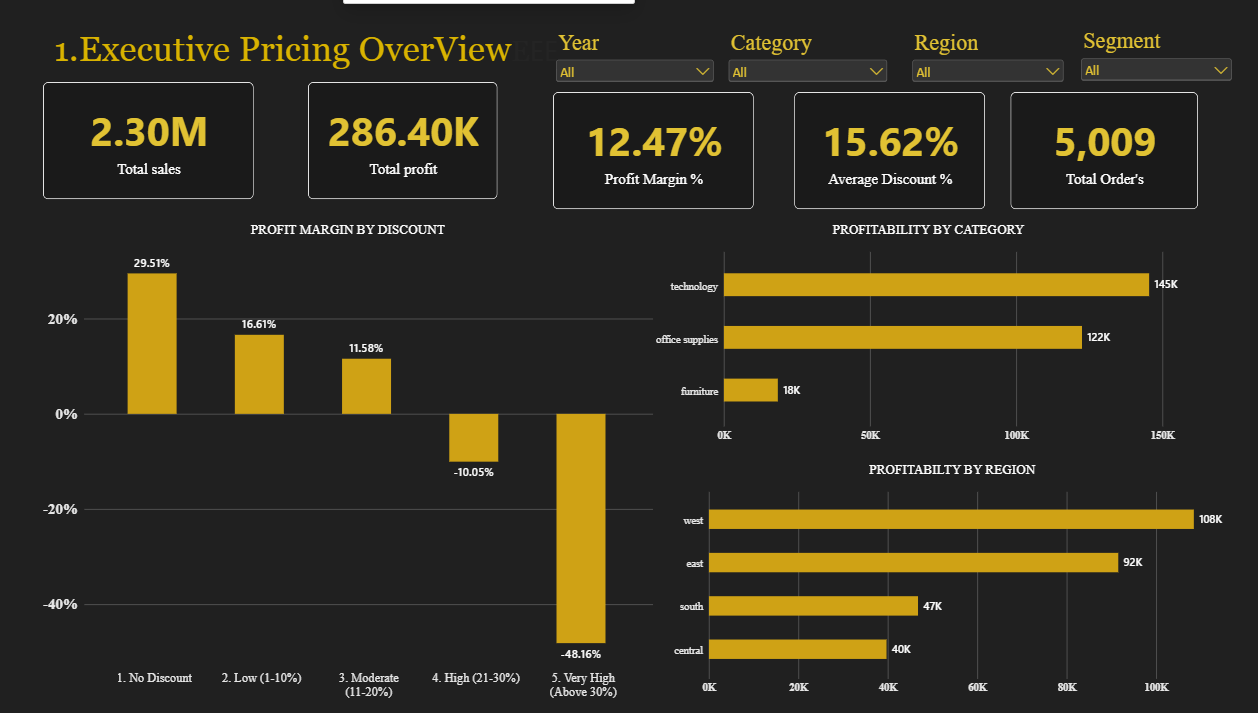

The dashboard page shown, as its layout file describes it:
{"tool":"powerbi","page":{"name":"Executive Overview","canvas":[1920,1080],"ordinal":0},"visuals":[{"type":"textbox","box":[0,47.2,960.4,81.1],"z":0},{"type":"cardVisual","fields":{"Data":["superstore_cleaned.Total sales"]},"box":[83,128.3,318.9,177.4],"z":1000},{"type":"cardVisual","fields":{"Data":["superstore_cleaned.Total profit"]},"box":[483,128.3,286.8,177.4],"z":2000},{"type":"cardVisual","fields":{"Data":["superstore_cleaned.Profit Margin %"]},"box":[852.8,143.4,303.8,177.4],"z":3000},{"type":"cardVisual","fields":{"Data":["superstore_cleaned.Average Discount %"]},"box":[1217,143.4,288.7,177.4],"z":4000},{"type":"cardVisual","fields":{"Data":["superstore_cleaned.Total orders dIsplay"]},"box":[1543.4,143.4,283,177.4],"z":5000},{"type":"clusteredColumnChart","title":"PROFIT MARGIN BY DISCOUNT","fields":{"Category":["superstore_cleaned.Discount Bucket"],"Y":["superstore_cleaned.Profit Margin %"]},"box":[83,339.6,920.8,722.6],"z":6000},{"type":"clusteredBarChart","title":"PROFITABILITY BY CATEGORY","fields":{"Category":["superstore_cleaned.Category"],"Y":["superstore_cleaned.Total profit"]},"box":[1003.8,339.6,832.1,334],"z":7000},{"type":"clusteredBarChart","title":"PROFITABILTY BY REGION","fields":{"Category":["superstore_cleaned.Region"],"Y":["superstore_cleaned.Total profit"]},"box":[1030.2,701.9,850.9,352.8],"z":8000},{"type":"slicer","fields":{"Values":["superstore_cleaned.Order Date.Variation.Date Hierarchy.Year"]},"box":[852.8,49.1,247.2,81.1],"z":9000},{"type":"slicer","fields":{"Values":["superstore_cleaned.Category"]},"box":[1113.2,49.1,249.1,81.1],"z":10000},{"type":"slicer","fields":{"Values":["superstore_cleaned.Region"]},"box":[1390.6,49.1,237.7,81.1],"z":11000},{"type":"slicer","fields":{"Values":["superstore_cleaned.Segment"]},"box":[1644.6,47.3,236.7,80.3],"z":12000}]}

Visuals, with their boxes in screenshot pixels (x1, y1, x2, y2), scaled from the page's 1920x1080 canvas onto the 1258x713 screenshot:
textbox: Rect(0, 31, 629, 85)
cardVisual - superstore_cleaned.Total sales: Rect(54, 85, 263, 202)
cardVisual - superstore_cleaned.Total profit: Rect(316, 85, 504, 202)
cardVisual - superstore_cleaned.Profit Margin %: Rect(559, 95, 758, 212)
cardVisual - superstore_cleaned.Average Discount %: Rect(797, 95, 987, 212)
cardVisual - superstore_cleaned.Total orders dIsplay: Rect(1011, 95, 1197, 212)
"PROFIT MARGIN BY DISCOUNT" clusteredColumnChart: Rect(54, 224, 658, 701)
"PROFITABILITY BY CATEGORY" clusteredBarChart: Rect(658, 224, 1203, 445)
"PROFITABILTY BY REGION" clusteredBarChart: Rect(675, 463, 1233, 696)
slicer - superstore_cleaned.Order Date.Variation.Date Hierarchy.Year: Rect(559, 32, 721, 86)
slicer - superstore_cleaned.Category: Rect(729, 32, 893, 86)
slicer - superstore_cleaned.Region: Rect(911, 32, 1067, 86)
slicer - superstore_cleaned.Segment: Rect(1078, 31, 1233, 84)
